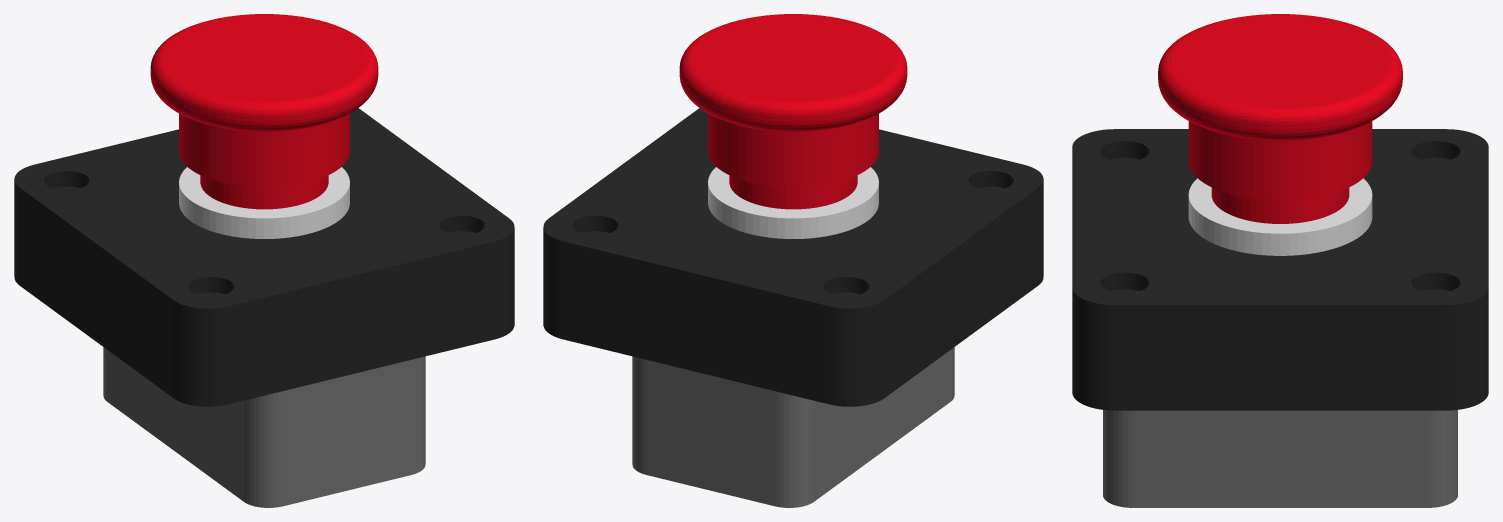
The model's file is estop.dae.
3 renders of one model, left to right at view 1: azimuth 30°, elevation 25°; view 2: azimuth 150°, elevation 25°; view 3: azimuth 270°, elevation 25°, orthographic. The views are drawn at different scales.
Parts seen in each view (by area): view 1: estop; view 2: estop; view 3: estop.
Boxes of the visible parts, <box> form: estop: <box>14,14,514,507</box>; estop: <box>543,14,1043,507</box>; estop: <box>1072,14,1488,507</box>.
Size of the model in its own units: 0.068 by 0.068 by 0.072.
